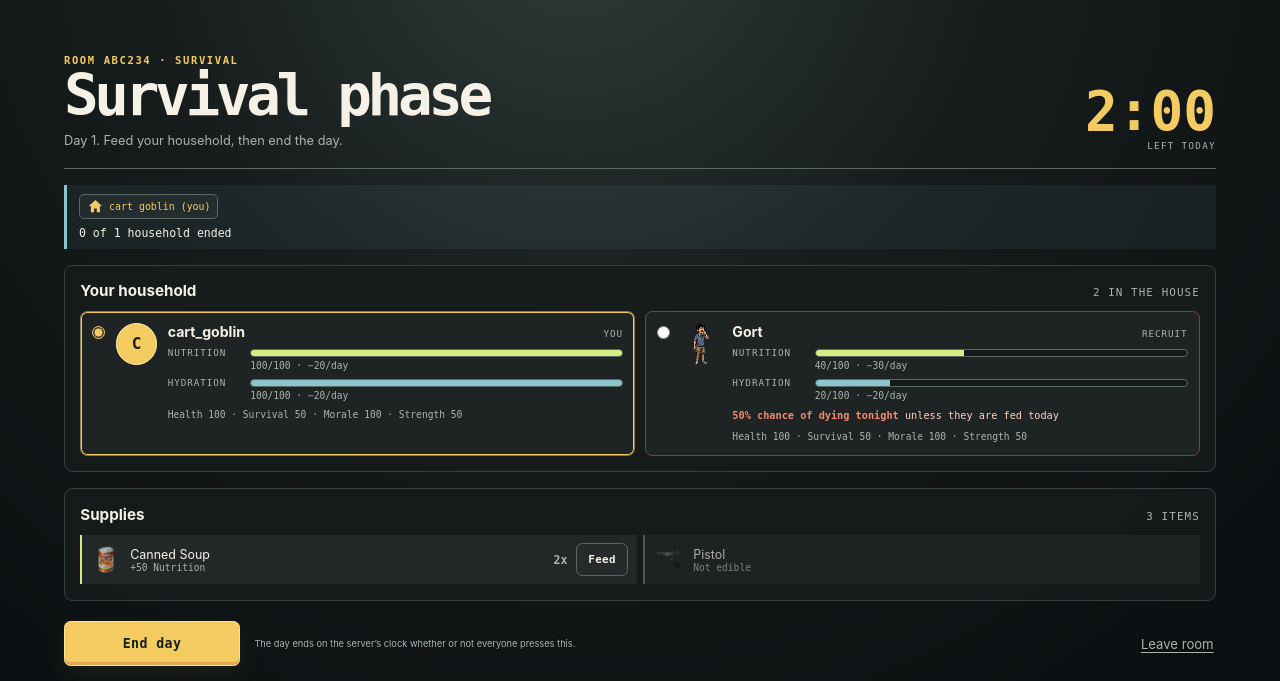
Test: survival day screen › feeds one owned item to the chosen character and reports what the server committed
Click the radio button labelled "Gort" at (664, 333), box [657,326,670,339]
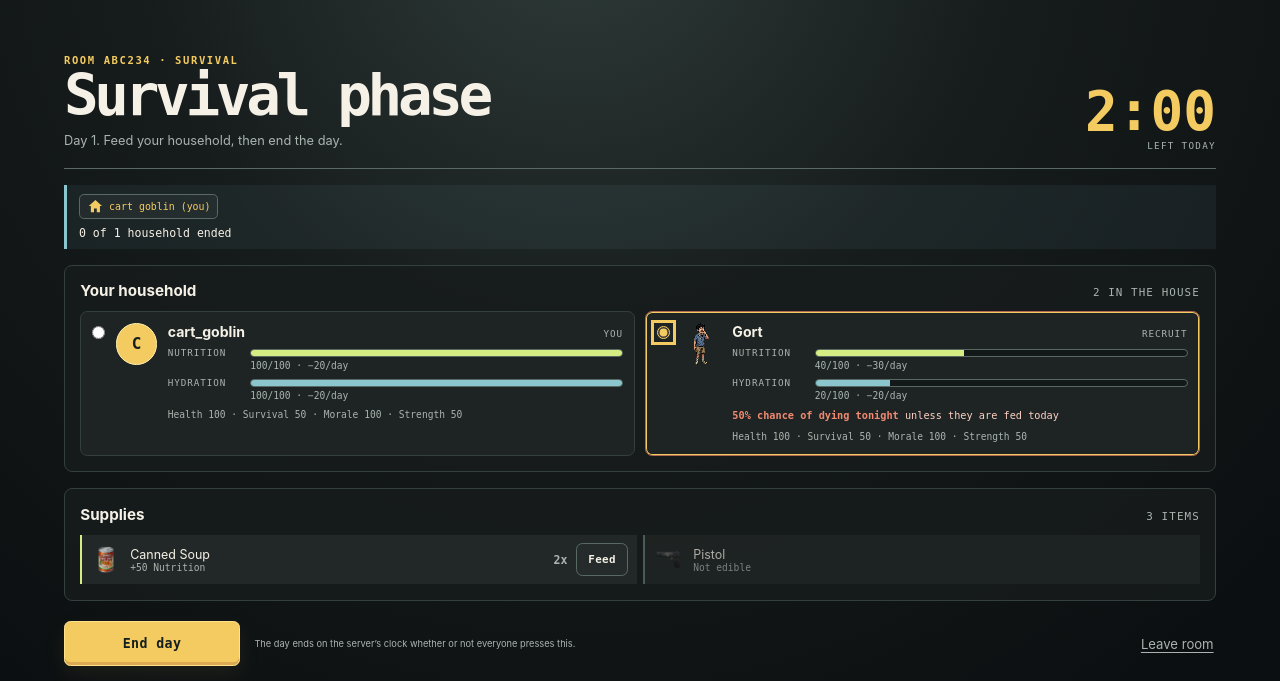
Click the button with aria-label "Feed Canned Soup to Gort" at (602, 560), box [576,543,628,576]
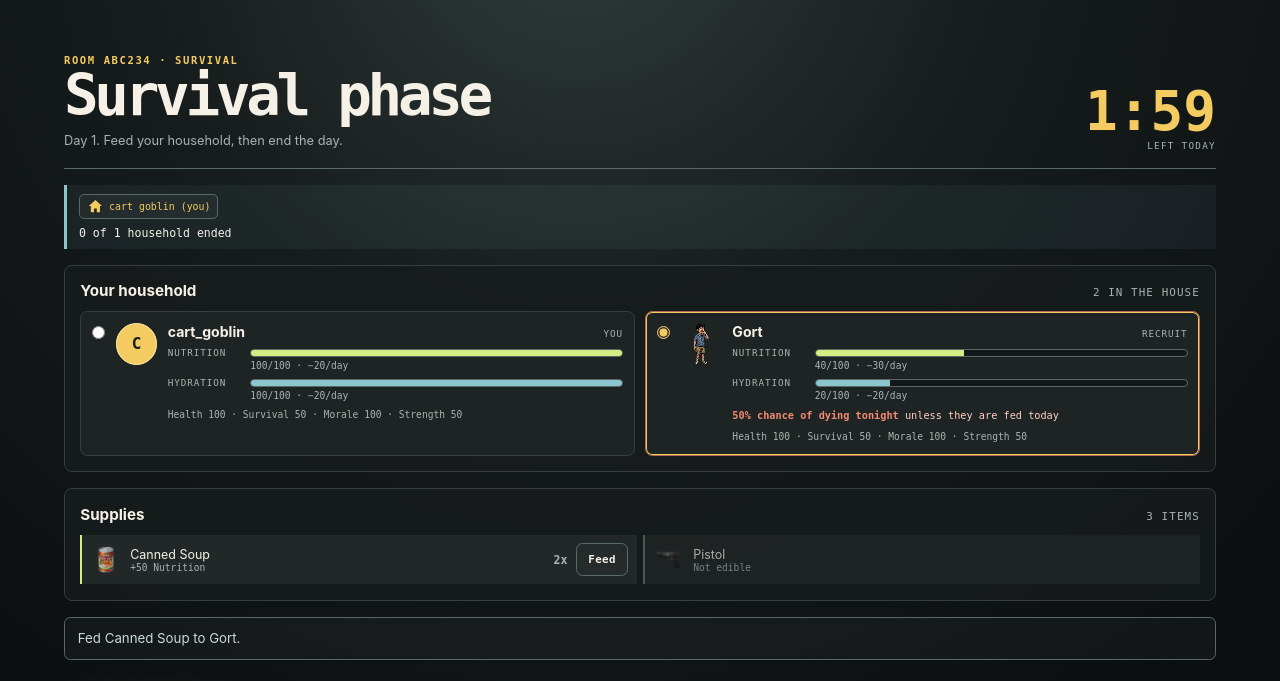
Check: the text "Fed Canned Soup to Gort." is shown, box [64,616,1216,660]
